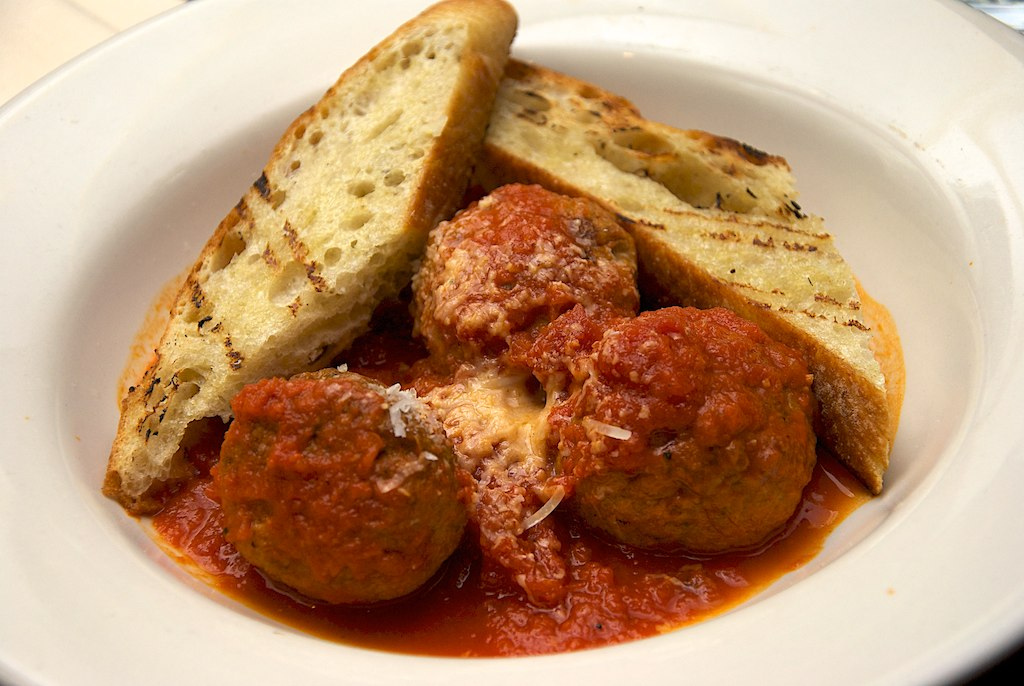meatballs: (570, 313, 810, 548), (220, 381, 464, 593), (400, 178, 631, 371)
slice of bread: (111, 1, 501, 491), (495, 41, 936, 398)
